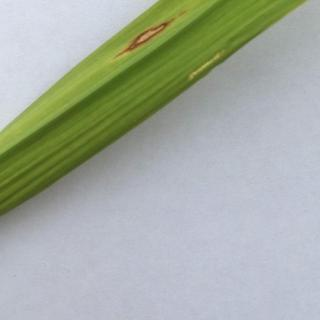Blast: (103, 19, 207, 56)
